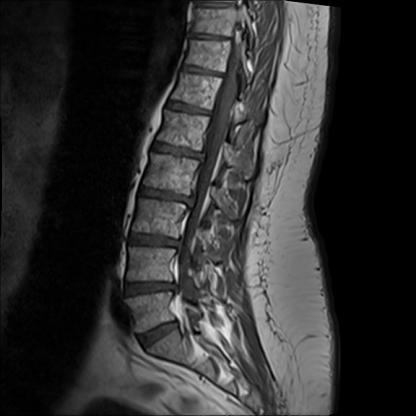Annular Disc Relaxationrotation: (126, 232, 183, 253), (150, 142, 206, 162)
Degenerative Disc Diseaserotation: (122, 278, 178, 299), (134, 188, 196, 205)
Disc Bulgerotation: (122, 279, 178, 300), (135, 323, 183, 346), (134, 188, 195, 205)
